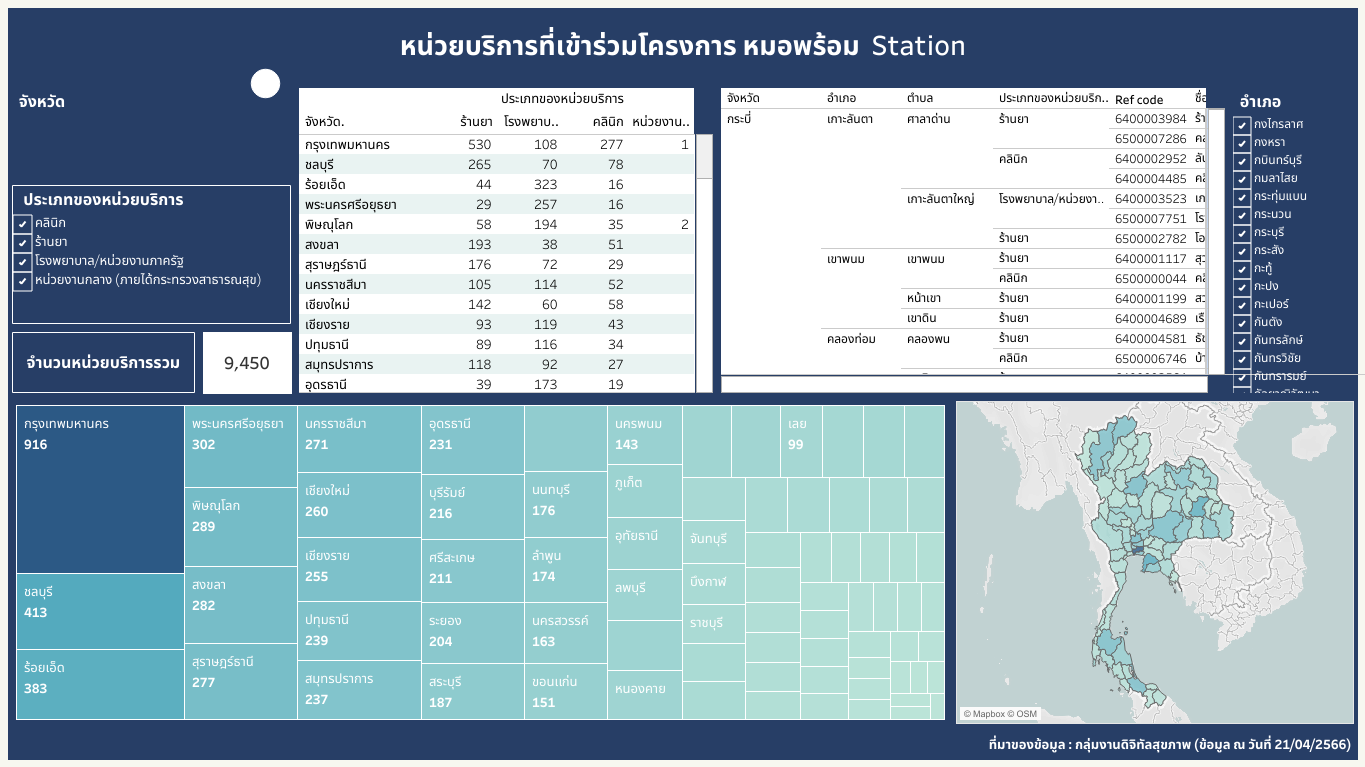

The page's visual inventory and layout, read from the dashboard file:
{"tool":"tableau","page":{"name":"จำนวนหน่วยบริการที่เข้าร่วมโครงการหมอพร้อมstation","canvas":[1366,768],"ordinal":0},"visuals":[{"type":"text","box":[8,8,1350,76]},{"type":"worksheet","title":"reset bottom","mark":"Circle","rows":["Calculation_436567715111297024"],"box":[244,67,43,33]},{"type":"filter","title":"จังหวัด by อำเภอ by ตำบล by ประเภท","param":"[federated.0q7z43z1aouikg14jj8vv1nckhxx].[none:จังหวัด (copy)_439663932794707969","box":[8,84,287,97]},{"type":"worksheet","title":"จำนวน by ประเภท","mark":"Automatic","rows":["จังหวัด"],"cols":["ร้านยา/คลินิก/รพ./อื่นๆ"],"box":[295,84,422,313]},{"type":"worksheet","title":"จังหวัด by อำเภอ by ตำบล by ประเภท","mark":"Square","rows":["จังหวัด (copy)_439663932794707969","อำเภอ","ตำบล","ร้านยา/คลินิก/รพ./อื่นๆ","Ref code","ชื่อ"],"box":[717,84,512,313]},{"type":"filter","title":"จังหวัด by อำเภอ by ตำบล by ประเภท","param":"[federated.0q7z43z1aouikg14jj8vv1nckhxx].[none:อำเภอ:nk]","box":[1229,84,129,313]},{"type":"filter","title":"จำนวน by ประเภท","param":"[federated.0q7z43z1aouikg14jj8vv1nckhxx].[none:ร้านยา/คลินิก/รพ./อื่นๆ:nk]","box":[8,181,287,147]},{"type":"text","box":[8,328,191,69]},{"type":"worksheet","title":"ยอดรวม","mark":"Automatic","box":[199,328,96,69]},{"type":"worksheet","title":"จำนวน by จังหวัด","mark":"Automatic","box":[8,397,944,331]},{"type":"worksheet","title":"Map","mark":"Automatic","box":[952,397,406,331]},{"type":"text","box":[8,728,1350,32]}]}

Visuals, with their boxes in screenshot pixels (x1, y1, x2, y2), scaled from the page's 1366x768 canvas onto the 1365x767 screenshot:
text: crop(8, 8, 1357, 84)
"reset bottom" worksheet (Circle marks): crop(244, 67, 287, 100)
"จังหวัด by อำเภอ by ตำบล by ประเภท" filter: crop(8, 84, 295, 181)
"จำนวน by ประเภท" worksheet: crop(295, 84, 716, 396)
"จังหวัด by อำเภอ by ตำบล by ประเภท" worksheet (Square marks): crop(716, 84, 1228, 396)
"จังหวัด by อำเภอ by ตำบล by ประเภท" filter: crop(1228, 84, 1357, 396)
"จำนวน by ประเภท" filter: crop(8, 181, 295, 328)
text: crop(8, 328, 199, 396)
"ยอดรวม" worksheet: crop(199, 328, 295, 396)
"จำนวน by จังหวัด" worksheet: crop(8, 396, 951, 727)
"Map" worksheet: crop(951, 396, 1357, 727)
text: crop(8, 727, 1357, 759)
